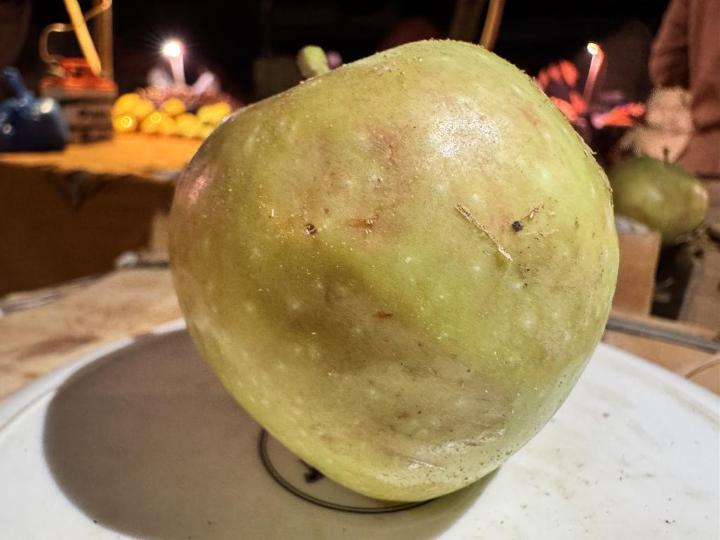apple: (170, 41, 619, 501)
surface_damage: (449, 195, 551, 267)
